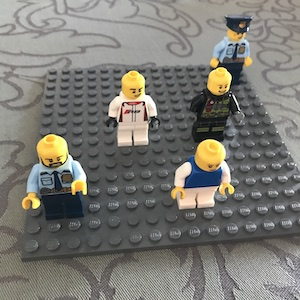Lego: (22, 132, 89, 221), (171, 138, 235, 212), (105, 69, 160, 151), (184, 66, 244, 141), (209, 14, 256, 80)
